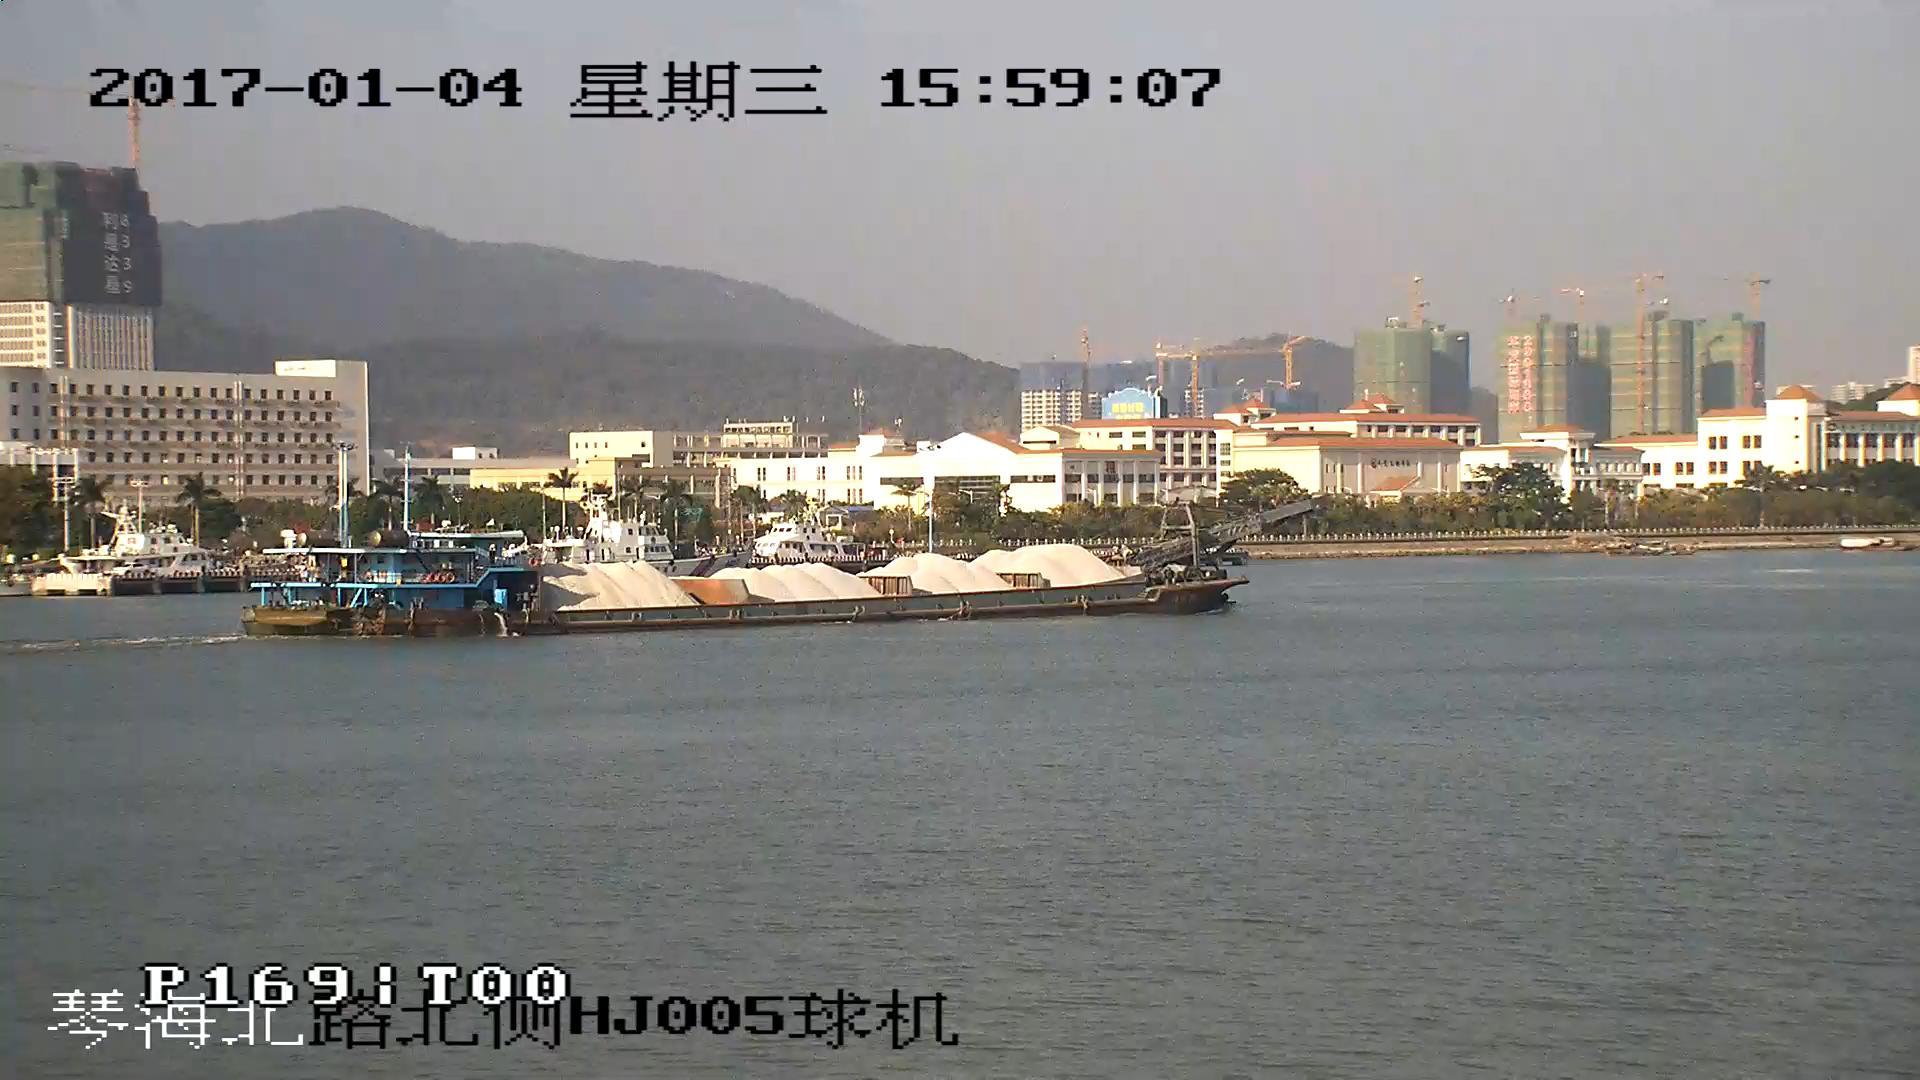ore carrier: (245, 497, 1320, 640)
